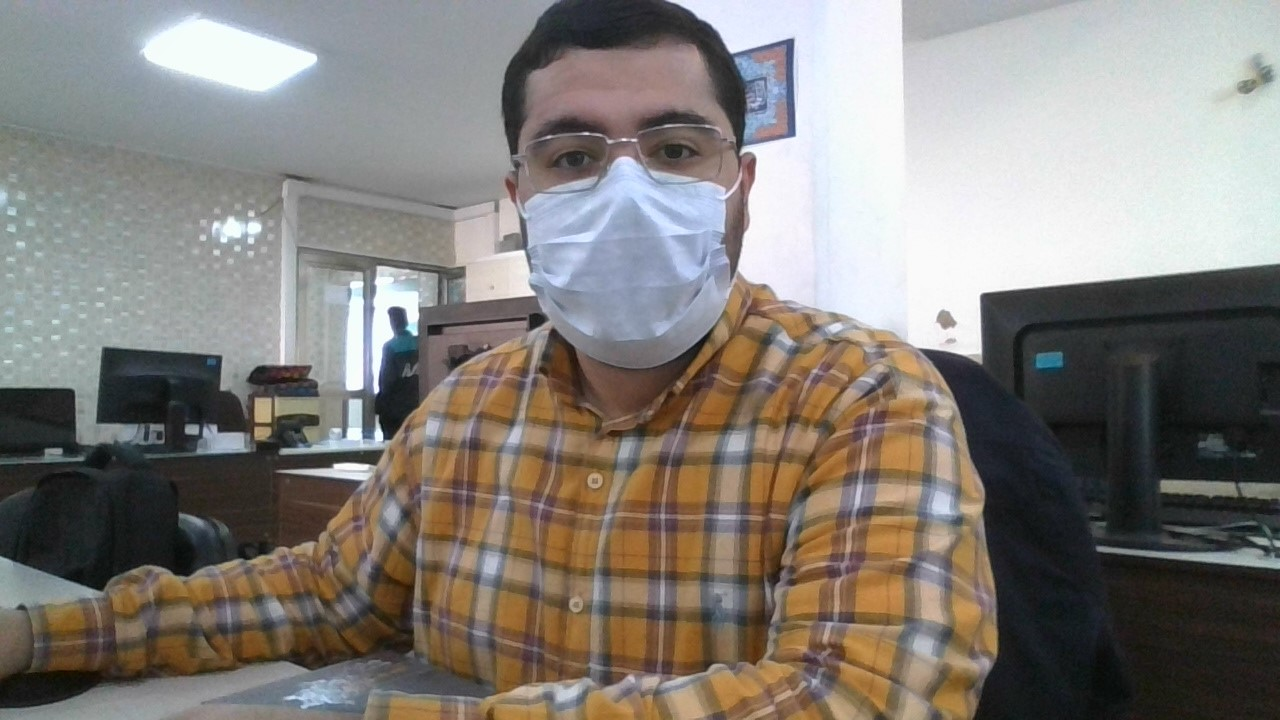Mask: (520, 157, 742, 372)
